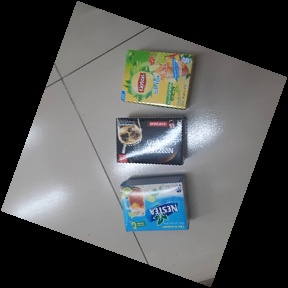CF Viet: (114, 115, 187, 167)
LipTon: (119, 48, 194, 112)
Nestea: (119, 174, 191, 235)
